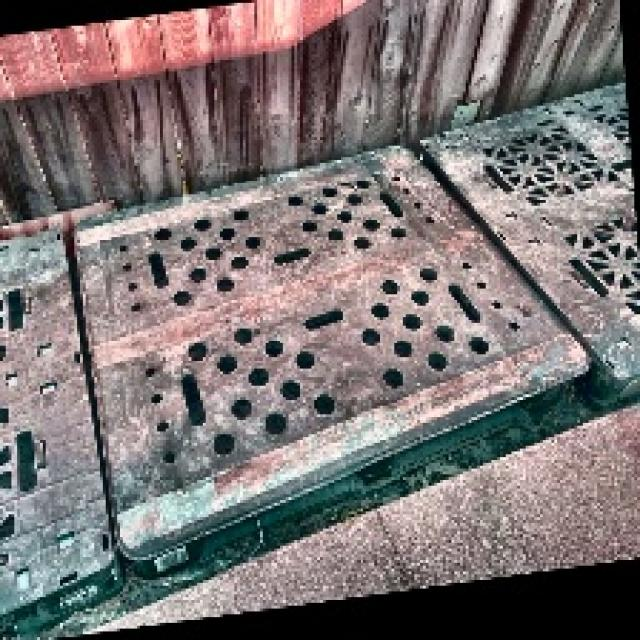igps: (67, 138, 598, 586), (408, 66, 640, 424), (0, 217, 134, 640)
